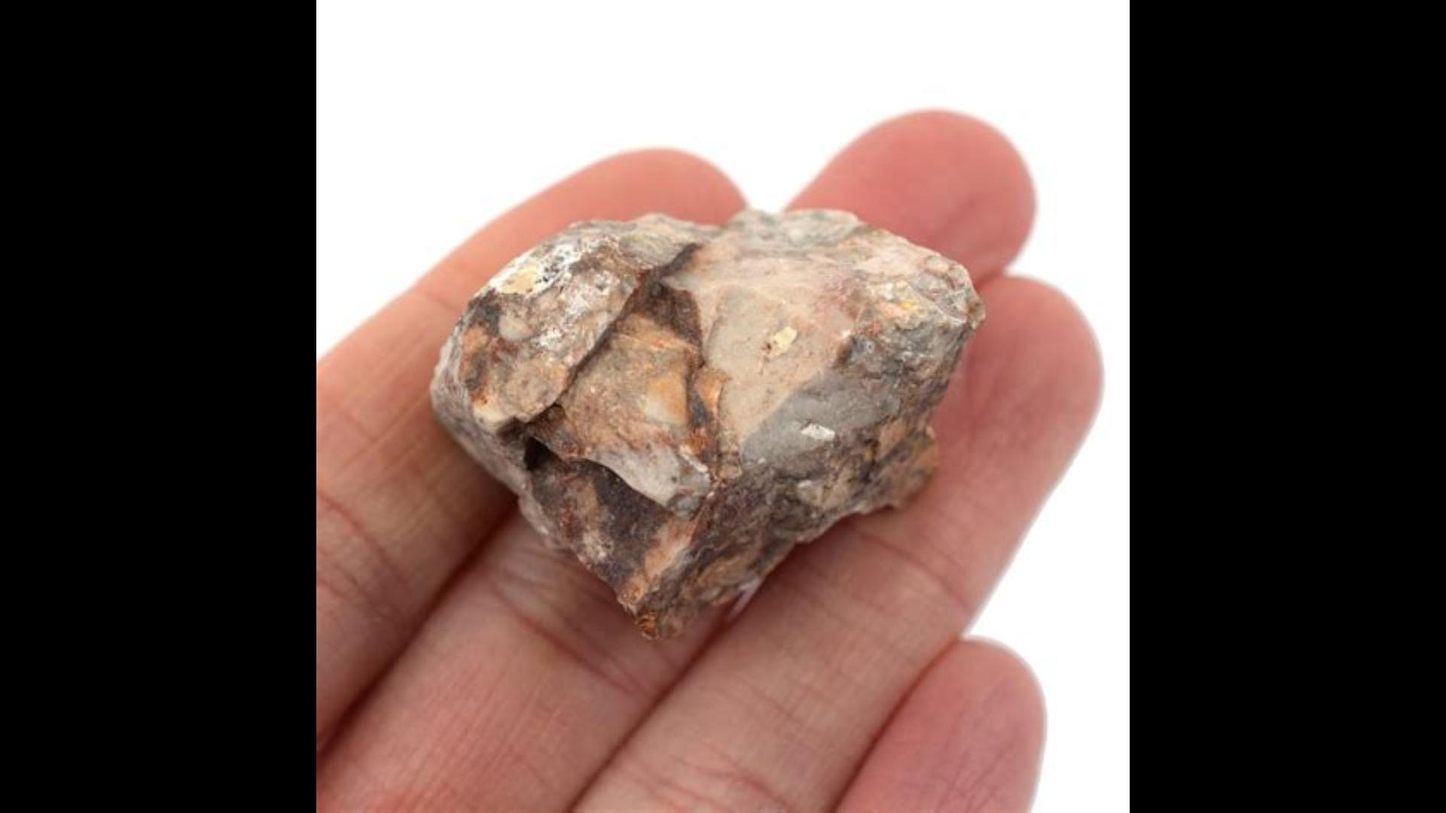rock: (433, 211, 982, 633)
